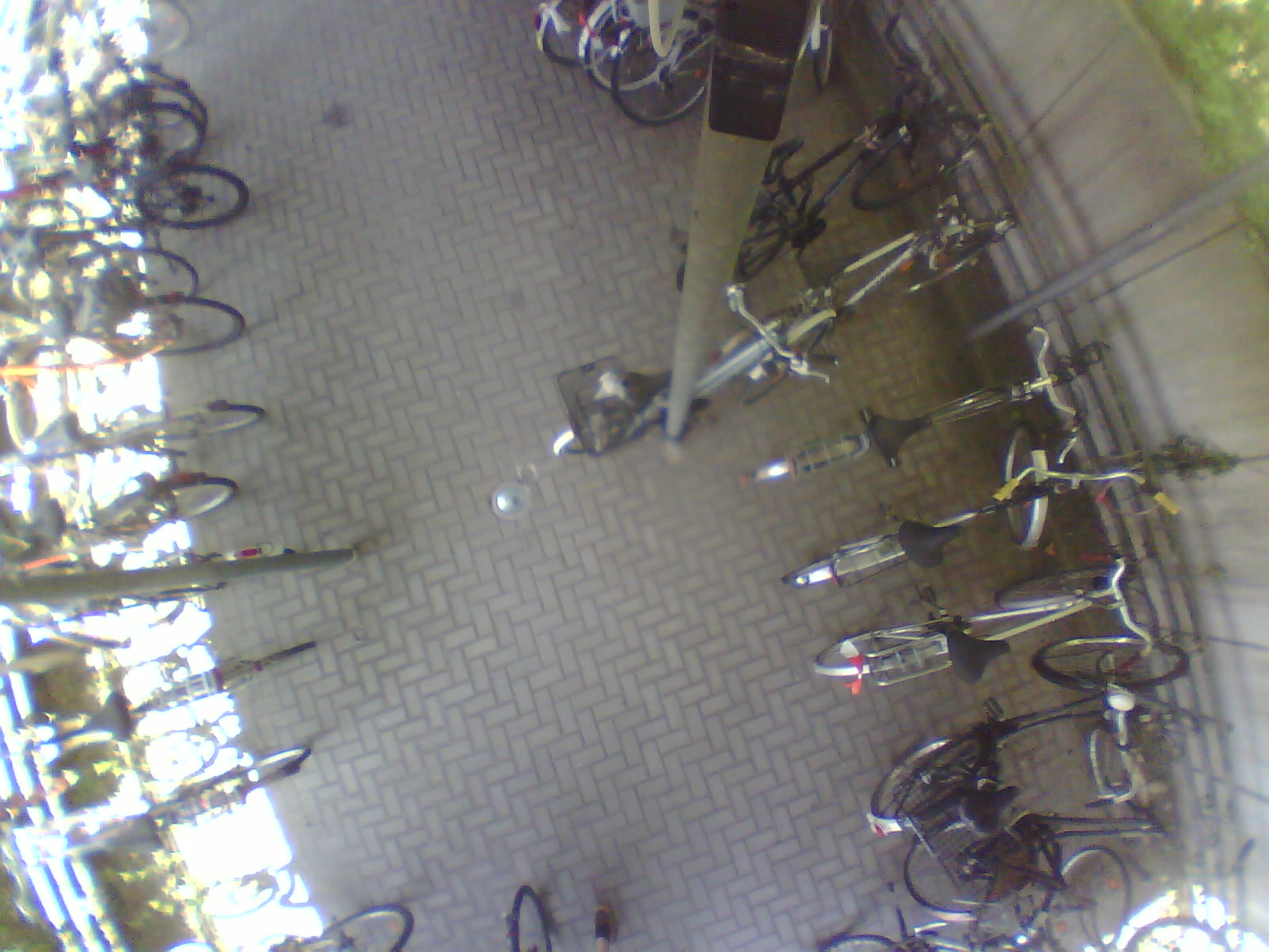bicylce: (863, 628, 1188, 836), (786, 418, 1109, 589), (754, 324, 1049, 495), (552, 299, 844, 470), (681, 101, 974, 265), (814, 555, 1144, 692), (0, 747, 308, 880), (764, 215, 1028, 363), (0, 634, 331, 741), (608, 0, 836, 125), (0, 280, 249, 392), (0, 372, 272, 474), (0, 462, 233, 581), (0, 148, 249, 225)
saddle: (852, 389, 940, 479), (877, 514, 980, 582), (946, 781, 1026, 841), (931, 629, 1012, 688), (69, 689, 138, 751), (741, 136, 812, 187), (16, 492, 76, 552), (18, 415, 93, 451), (99, 816, 168, 854), (32, 294, 76, 350), (34, 117, 79, 163), (6, 223, 51, 258), (625, 369, 673, 401)
